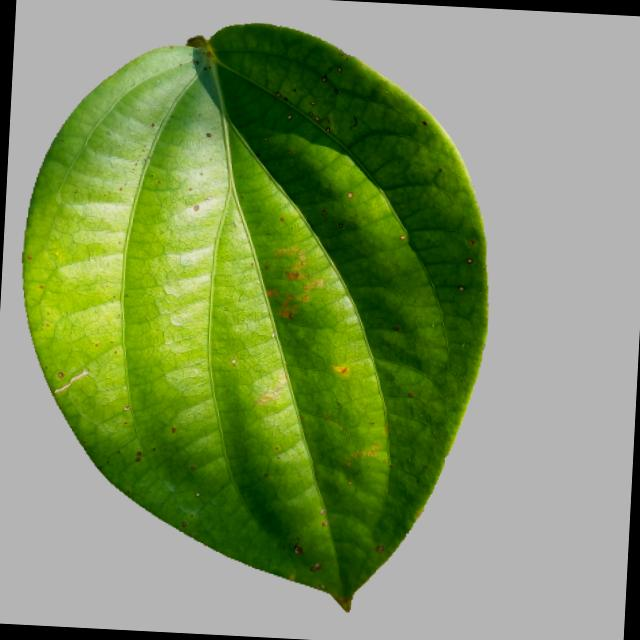healthy: (0, 10, 513, 631)
